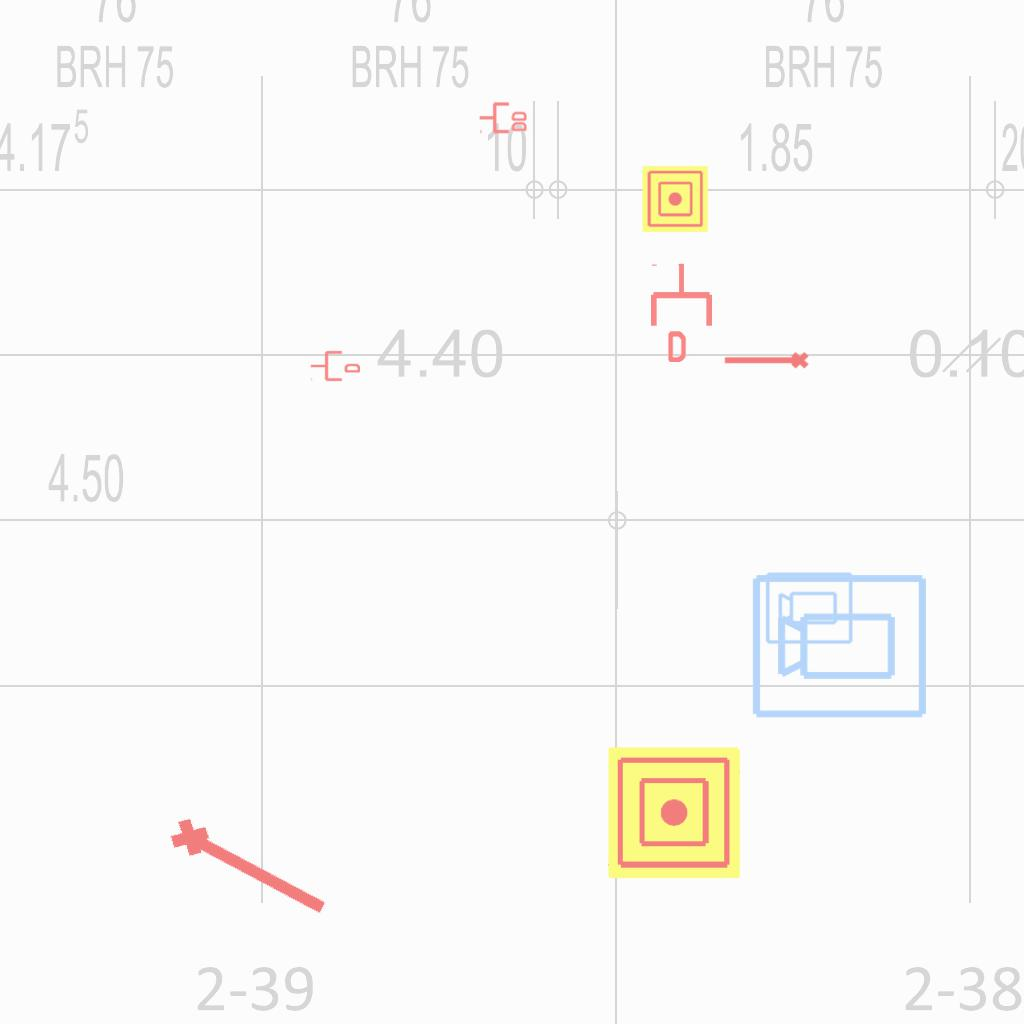ASR_Ansaugoeffnung: (162, 805, 340, 929), (722, 350, 810, 373)
Datenanschluss_einfach: (647, 262, 716, 362), (310, 349, 360, 383)
Datenanschluss_zweifach: (478, 100, 529, 134)
KFO_Kamera_mit_Festobjektiv: (749, 568, 931, 722), (764, 569, 855, 646)
NAM-Nichtautomatischer_Melder: (608, 747, 740, 879), (642, 166, 708, 232)
